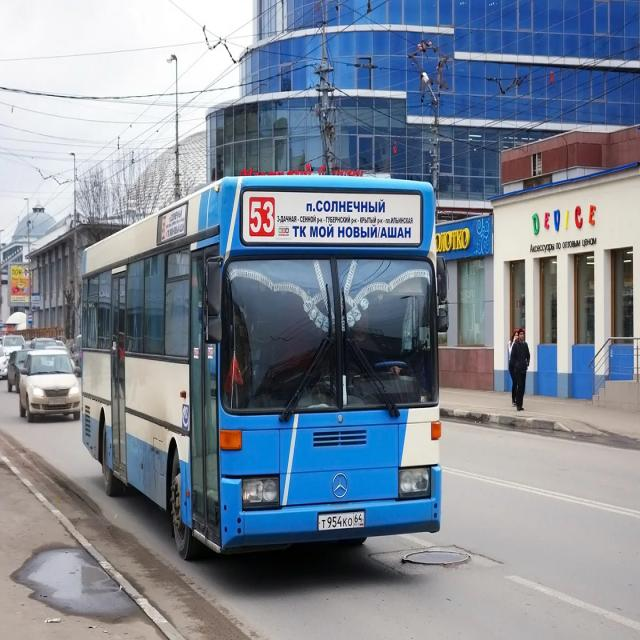number-of-bus: (250, 196, 278, 238)
